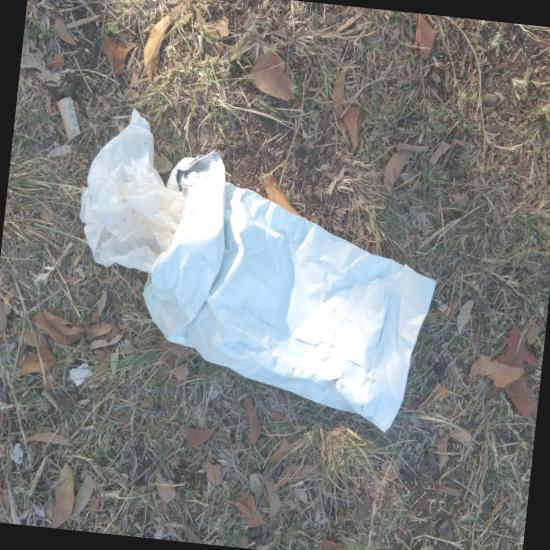Other plastic: (223, 414, 256, 485)
Unlabeled litter: (420, 530, 442, 550)
